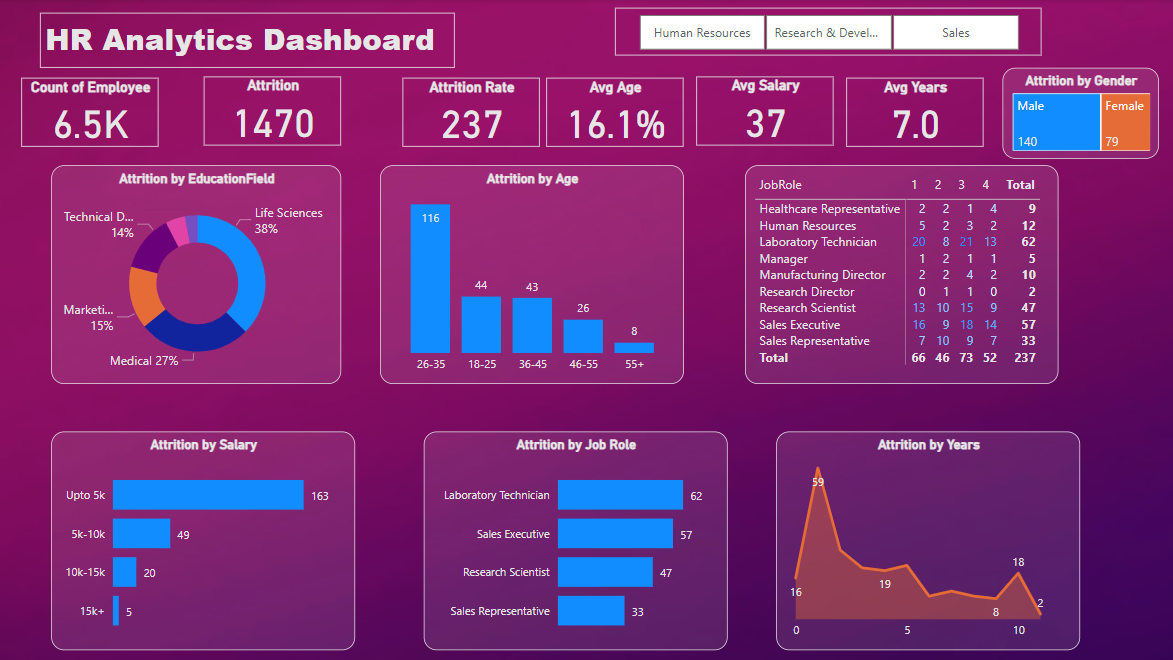

The page's visual inventory and layout, read from the dashboard file:
{"tool":"powerbi","page":{"name":"Page 1","canvas":[1280,720],"ordinal":0},"visuals":[{"type":"card","title":"Attrition","fields":{"Values":["CountNonNull(HR_Analytics.EmpID)"]},"box":[222.4,84.8,149.9,74.9],"z":0},{"type":"card","title":"Attrition Rate","fields":{"Values":["Sum(HR_Analytics.AttritionCount)"]},"box":[439,86.2,149.9,74.9],"z":1000},{"type":"card","title":"Avg Age","fields":{"Values":["HR_Analytics.AttritionRate"]},"box":[595.3,86.2,149.9,74.9],"z":2000},{"type":"card","title":"Avg Salary","fields":{"Values":["Avg(HR_Analytics.Age)"]},"box":[758.8,84.8,149.9,74.9],"z":3000},{"type":"card","title":"Count of Employee","fields":{"Values":["Avg(HR_Analytics.MonthlyIncome)"]},"box":[23.5,86.2,149.9,74.9],"z":4000},{"type":"card","title":"Avg Years","fields":{"Values":["Avg(HR_Analytics.YearsAtCompany)"]},"box":[922.3,86.2,149.9,74.9],"z":5000},{"type":"donutChart","title":"Attrition by EducationField","fields":{"Category":["HR_Analytics.EducationField"],"Y":["Sum(HR_Analytics.AttritionCount)"]},"box":[55.9,181.5,316.1,238.4],"z":6000},{"type":"columnChart","title":"Attrition by Age","fields":{"Category":["HR_Analytics.AgeGroup"],"Y":["Sum(HR_Analytics.AttritionCount)"]},"box":[414.1,181.5,331,238.4],"z":7000},{"type":"pivotTable","fields":{"Rows":["HR_Analytics.JobRole"],"Columns":["HR_Analytics.JobSatisfaction"],"Values":["Sum(HR_Analytics.AttritionCount)"]},"box":[811.9,181.5,341.9,238.4],"z":8000},{"type":"barChart","title":"Attrition by Salary","fields":{"Category":["HR_Analytics.SalarySlab"],"Y":["Sum(HR_Analytics.AttritionCount)"]},"box":[55.9,471.7,331,238.4],"z":9000},{"type":"barChart","title":"Attrition by Job Role","fields":{"Category":["HR_Analytics.JobRole"],"Y":["Sum(HR_Analytics.AttritionCount)"]},"box":[461.8,471.7,331,238.4],"z":10000},{"type":"areaChart","title":"Attrition by Years","fields":{"Category":["HR_Analytics.YearsAtCompany"],"Y":["Sum(HR_Analytics.AttritionCount)"]},"box":[846,471.7,331,238.4],"z":11000},{"type":"treemap","title":"Attrition by Gender","fields":{"Group":["HR_Analytics.Gender"],"Values":["Sum(HR_Analytics.AttritionCount)"]},"box":[1092.6,75.3,170.3,99.4],"z":12000},{"type":"slicer","fields":{"Values":["HR_Analytics.Department"]},"box":[670.2,9.5,464.5,51.8],"z":13000},{"type":"textbox","box":[43.6,15,452.3,59.9],"z":14000}]}

Visuals, with their boxes in screenshot pixels (x1, y1, x2, y2), scaled from the page's 1280x720 canvas onto the 1173x660 screenshot:
"Attrition" card: <bbox>204, 78, 341, 146</bbox>
"Attrition Rate" card: <bbox>402, 79, 540, 148</bbox>
"Avg Age" card: <bbox>546, 79, 683, 148</bbox>
"Avg Salary" card: <bbox>695, 78, 833, 146</bbox>
"Count of Employee" card: <bbox>22, 79, 159, 148</bbox>
"Avg Years" card: <bbox>845, 79, 983, 148</bbox>
"Attrition by EducationField" donutChart: <bbox>51, 166, 341, 385</bbox>
"Attrition by Age" columnChart: <bbox>379, 166, 683, 385</bbox>
pivotTable - HR_Analytics.JobRole x HR_Analytics.JobSatisfaction: <bbox>744, 166, 1057, 385</bbox>
"Attrition by Salary" barChart: <bbox>51, 432, 355, 651</bbox>
"Attrition by Job Role" barChart: <bbox>423, 432, 727, 651</bbox>
"Attrition by Years" areaChart: <bbox>775, 432, 1079, 651</bbox>
"Attrition by Gender" treemap: <bbox>1001, 69, 1157, 160</bbox>
slicer - HR_Analytics.Department: <bbox>614, 9, 1040, 56</bbox>
textbox: <bbox>40, 14, 454, 69</bbox>
